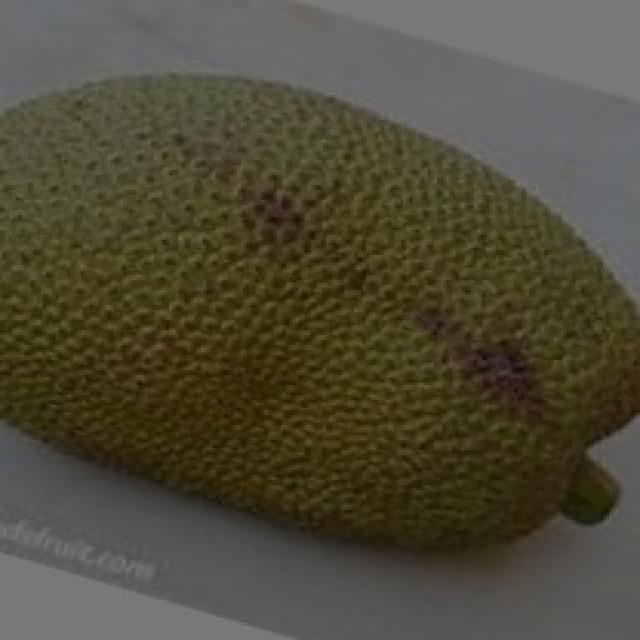Fruit: (0, 32, 406, 432), (261, 182, 640, 607), (255, 32, 640, 290)
